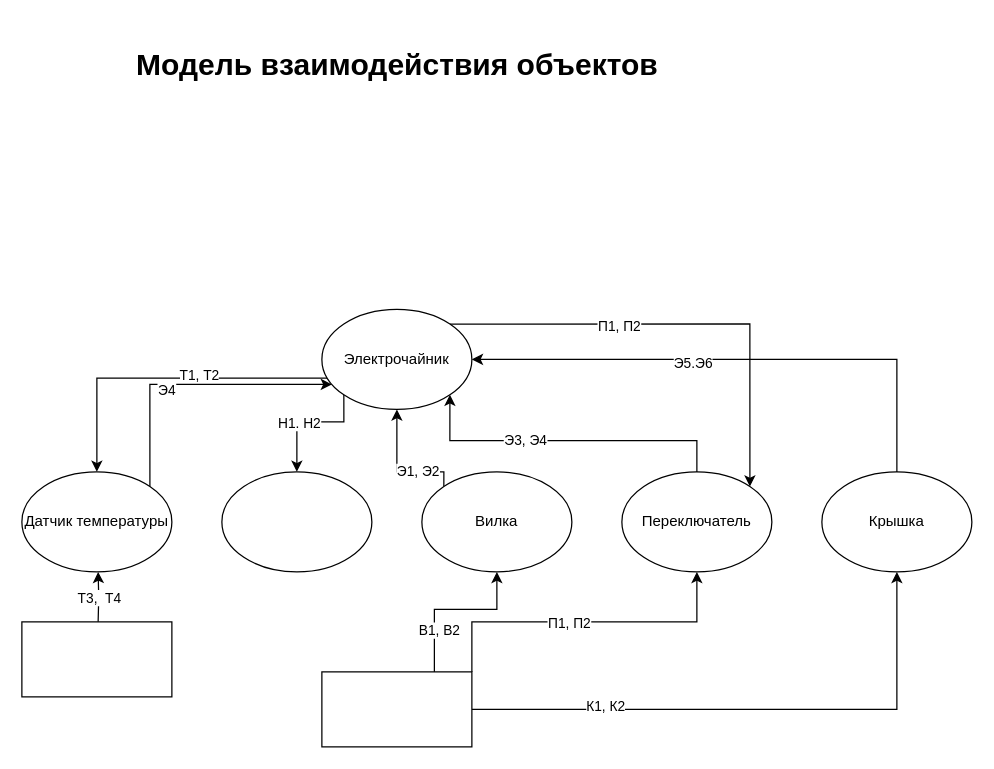
The diagram is 994 pixels wide and 769 high, and some of its shapes have lost their labels. Here are the shapes that lost their labels. From the top down, the centre of each, then its label:
At point 296,521: "Нагреватель".
At point 96,659: "Температура жидкости".
At point 396,709: "Пользователь".
